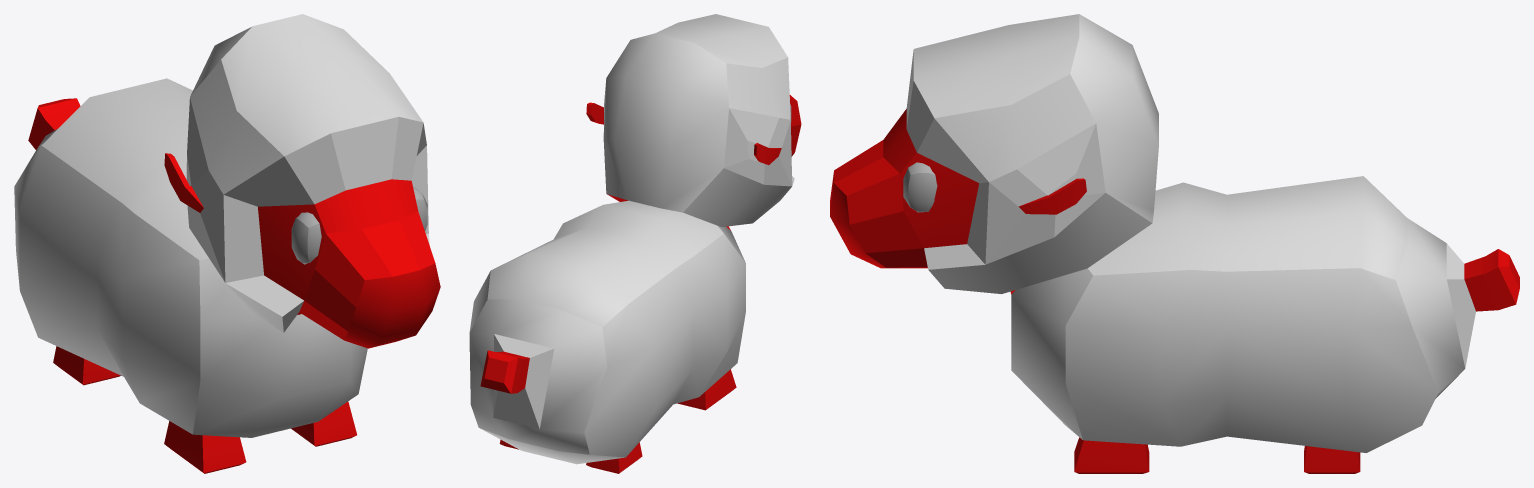
File: Mouton.fbx
3 renders of one model, left to right at view 1: azimuth 30°, elevation 25°; view 2: azimuth 150°, elevation 25°; view 3: azimuth 270°, elevation 25°, orthographic. The views are drawn at different scales.
Parts seen in each view (by area): view 1: Mouton; view 2: Mouton; view 3: Mouton.
Boxes of the visible parts, x1,y1,x2,y2 form: Mouton: [14, 14, 440, 473]; Mouton: [469, 14, 801, 473]; Mouton: [830, 14, 1519, 473].
Size of the model in its own units: 0.022 by 0.0394 by 0.0594.
